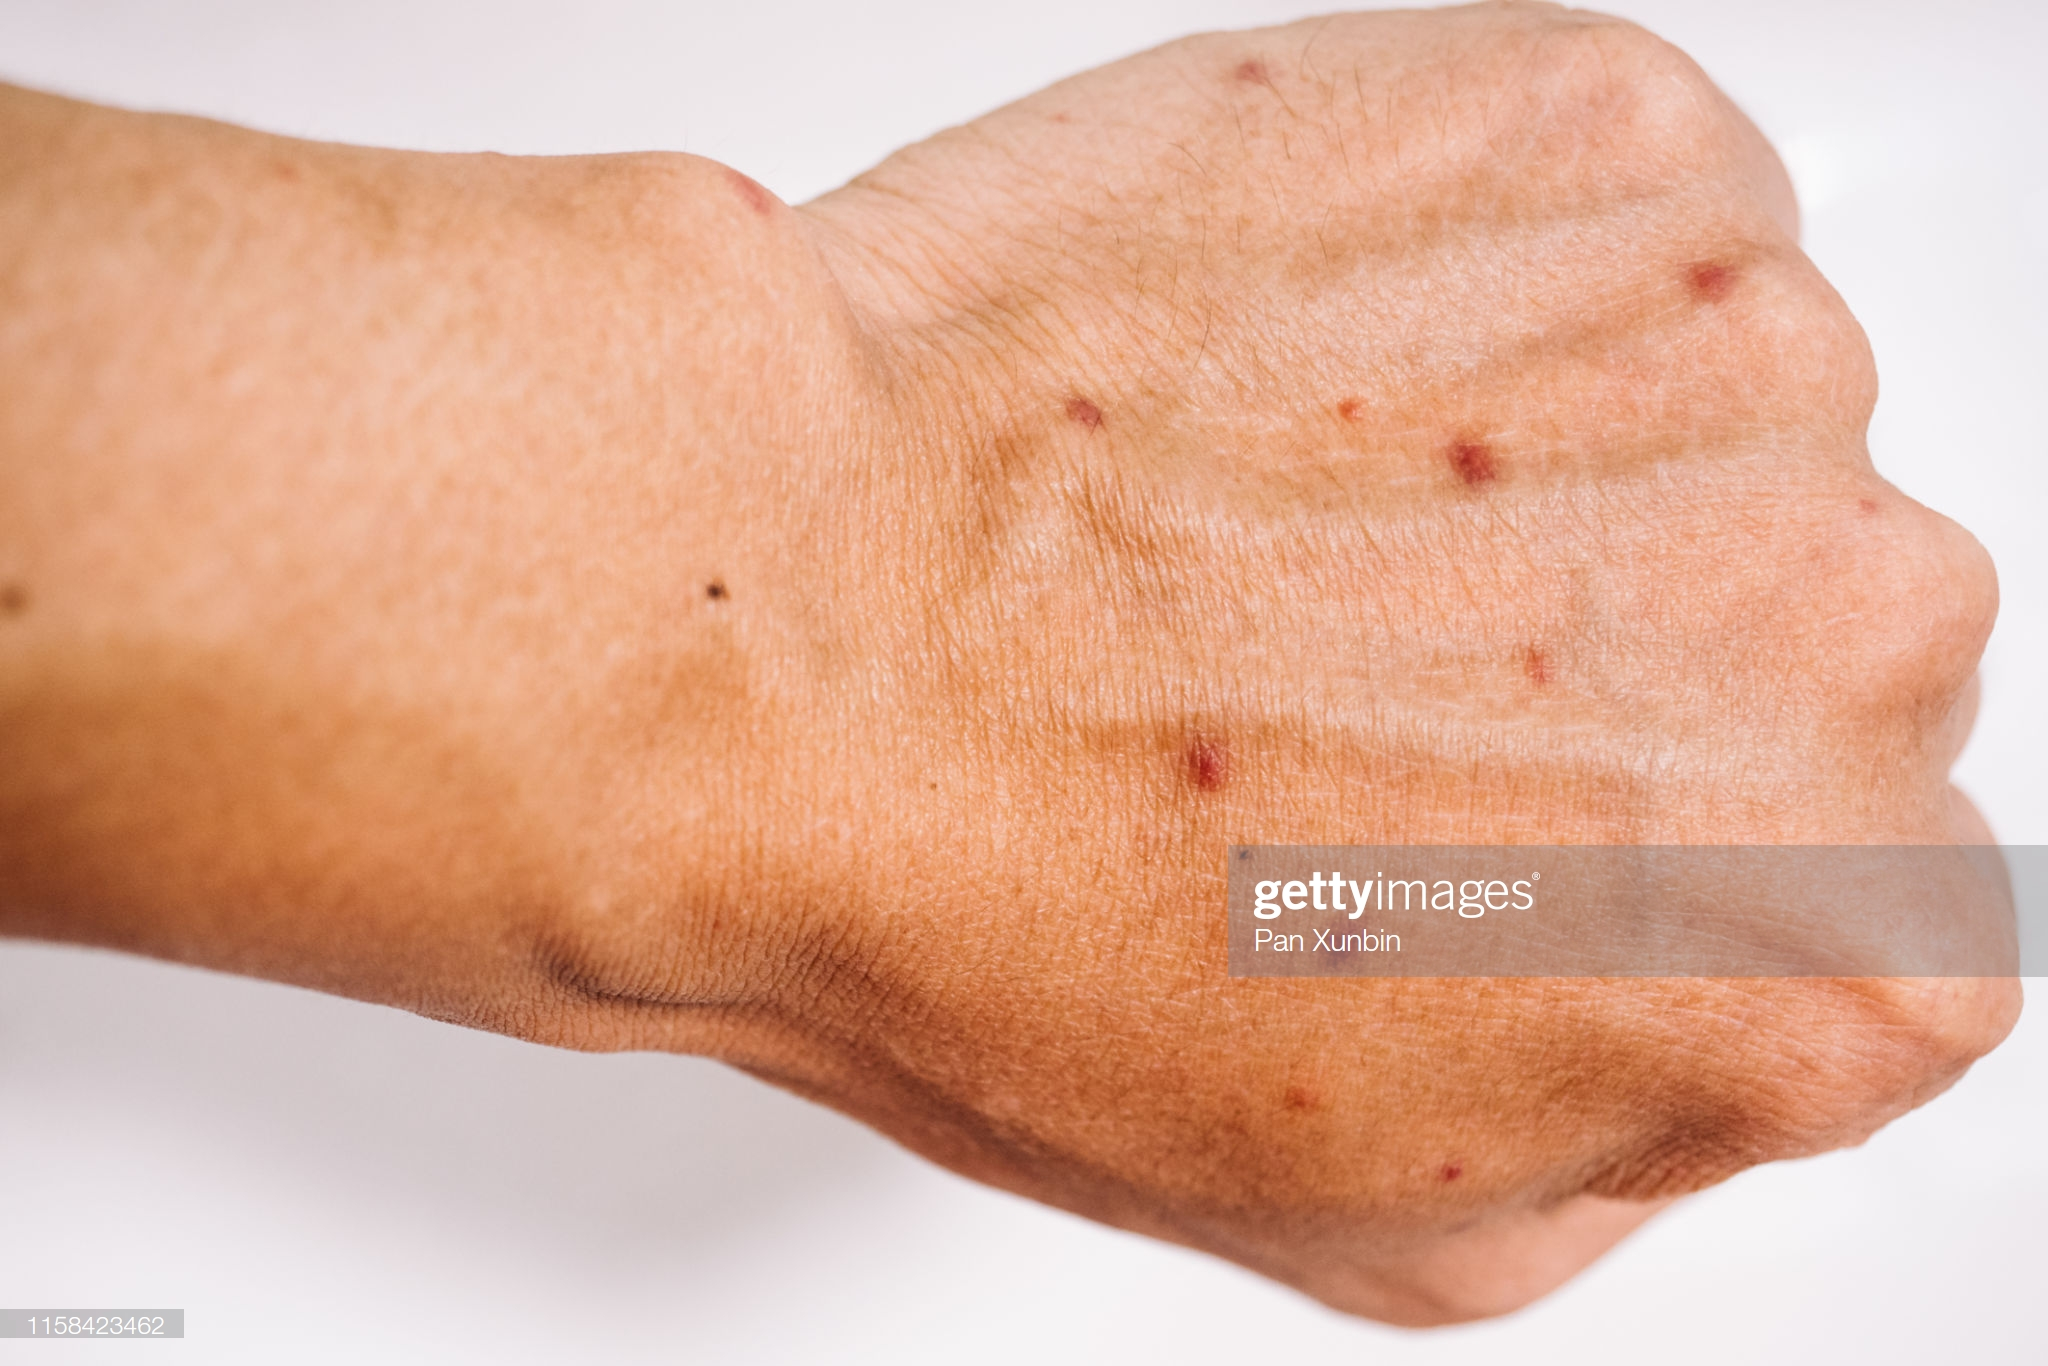Eczema: (625, 252, 1614, 968)
